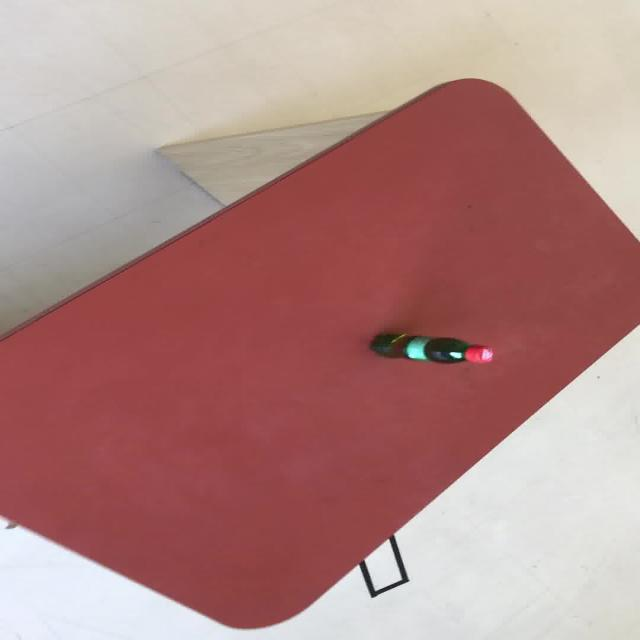guarana: (1, 76, 638, 629), (368, 331, 494, 364)
